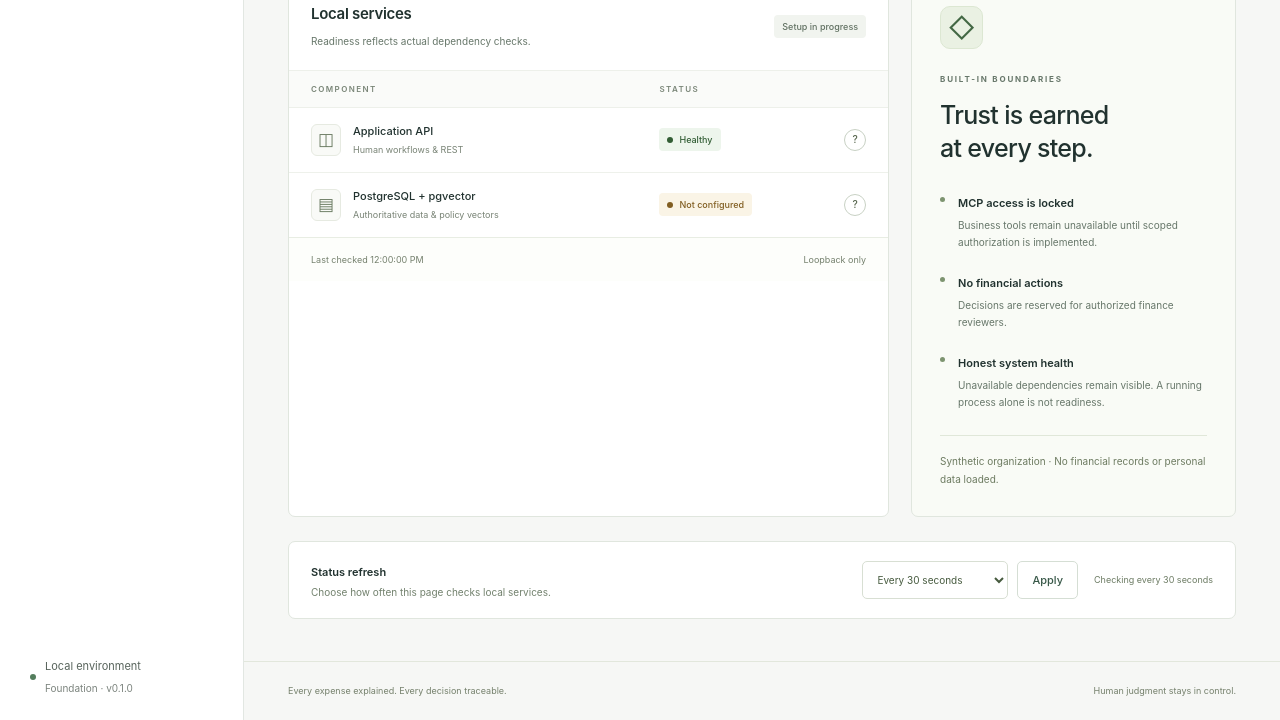
workspace status › allows keyboard-friendly refresh preferences
The image size is (1280, 720).
(page scrolled)
Expected: the text "Application API" is shown, [353,124,433,138]
Select "Manual only" in the dropdown labelled "Status refresh": coordinates (935, 580) [862,561,1008,599]
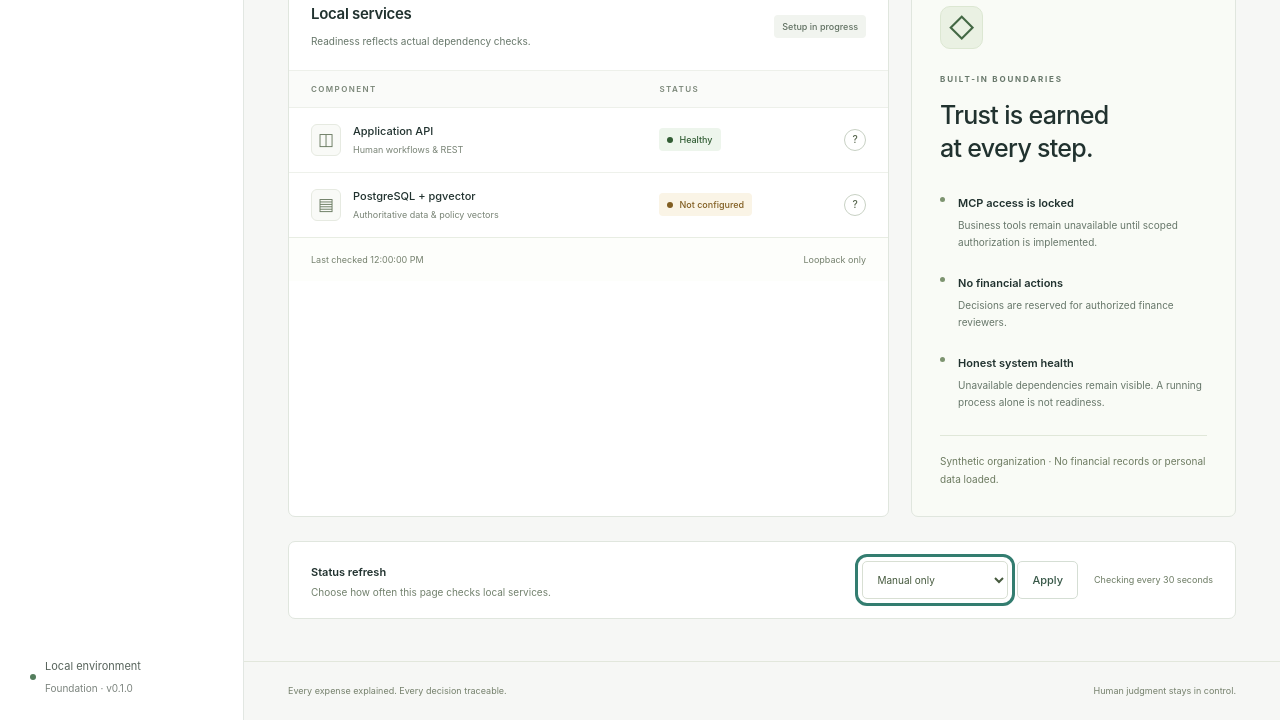
Click the button "Apply": coordinates (1048, 580) [1017,561,1078,599]
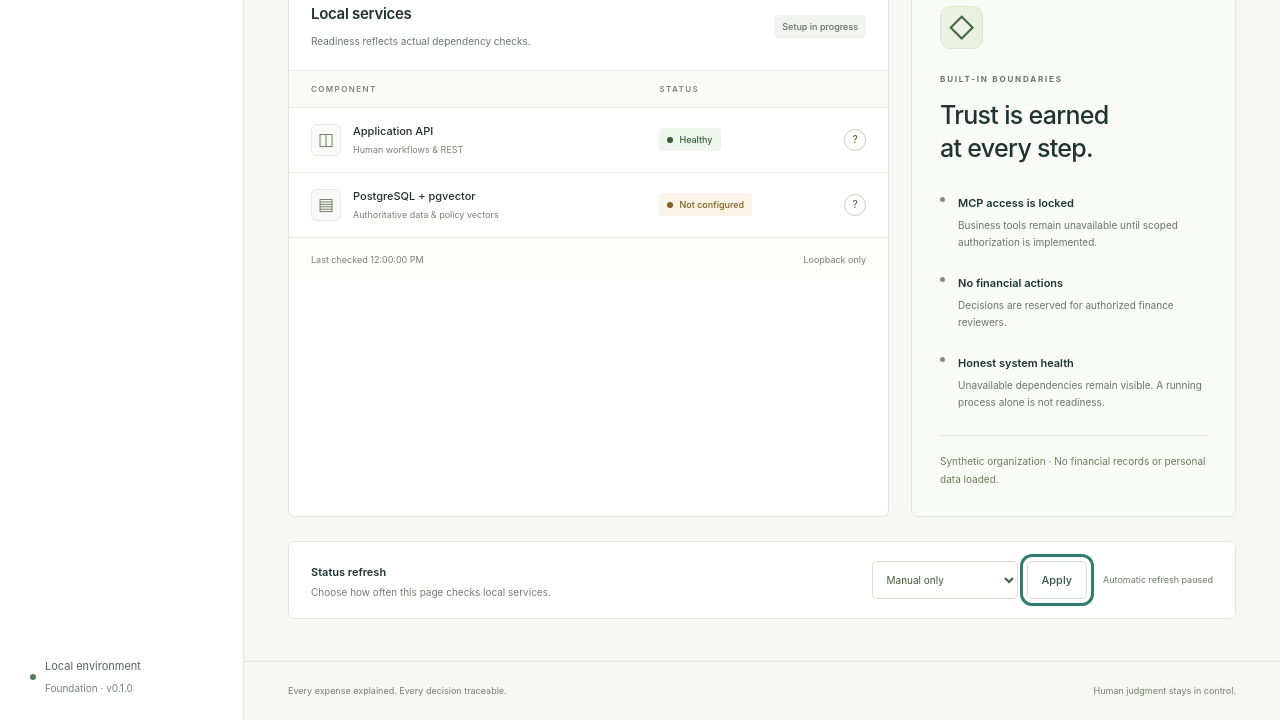
Expected: the text "Automatic refresh paused" is shown, [1103,573,1213,587]
